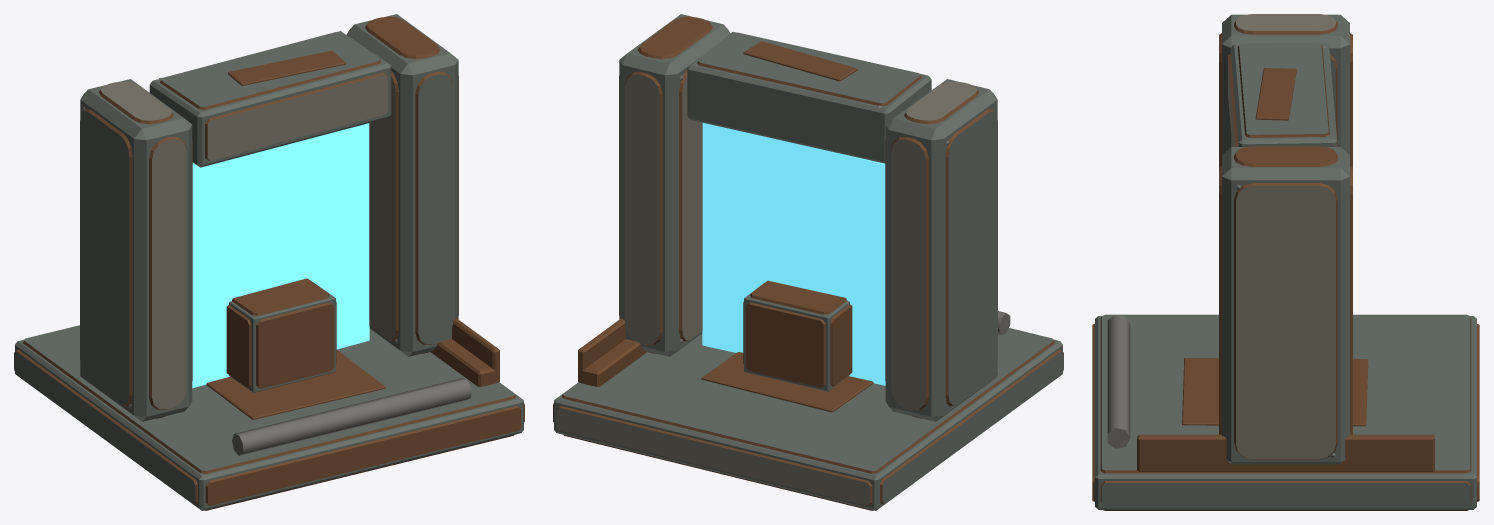
Rendered from R4X_StructuralScanner.fbx.
The picture shows the model from 3 angles, left to right: view 1: azimuth 30°, elevation 25°; view 2: azimuth 150°, elevation 25°; view 3: azimuth 270°, elevation 25°; orthographic projection.
Parts seen in each view (by area): view 1: R4X_StructuralScanner_Body; view 2: R4X_StructuralScanner_Body; view 3: R4X_StructuralScanner_Body.
Boxes of the visible parts, left/top/right/bottom form: R4X_StructuralScanner_Body: left=14, top=14, right=524, bottom=510; R4X_StructuralScanner_Body: left=553, top=14, right=1063, bottom=510; R4X_StructuralScanner_Body: left=1092, top=14, right=1479, bottom=510.
Size of the model in its own units: 0.52 by 0.513 by 0.52.
